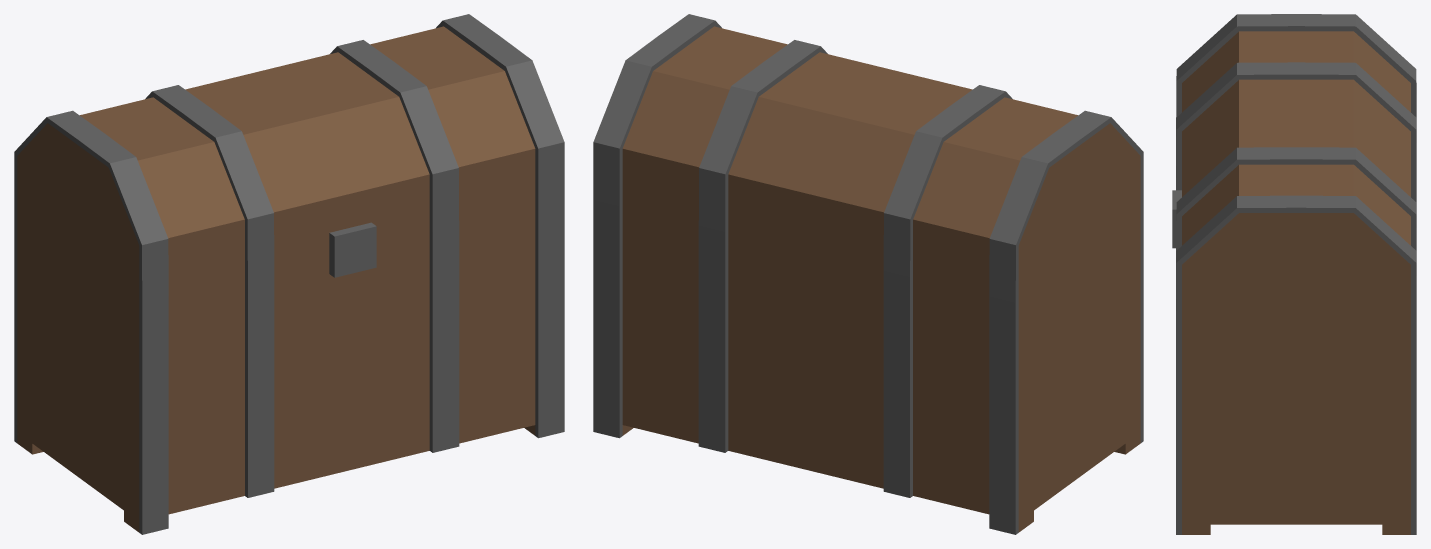
The model's file is Baú_Animado.fbx.
The picture shows the model from 3 angles, left to right: view 1: azimuth 30°, elevation 25°; view 2: azimuth 150°, elevation 25°; view 3: azimuth 270°, elevation 25°; orthographic projection. The views are drawn at different scales.
Parts seen in each view (by area): view 1: Base, Tampo; view 2: Base, Tampo; view 3: Tampo, Base.
Boxes of the visible parts, <box> form: Base: <box>14,200,564,534</box>; Tampo: <box>14,14,564,302</box>; Base: <box>593,200,1143,534</box>; Tampo: <box>593,14,1143,302</box>; Tampo: <box>1172,14,1416,316</box>; Base: <box>1176,135,1416,534</box>.
Bounding box in the file's own units: 400 × 315 × 213.
